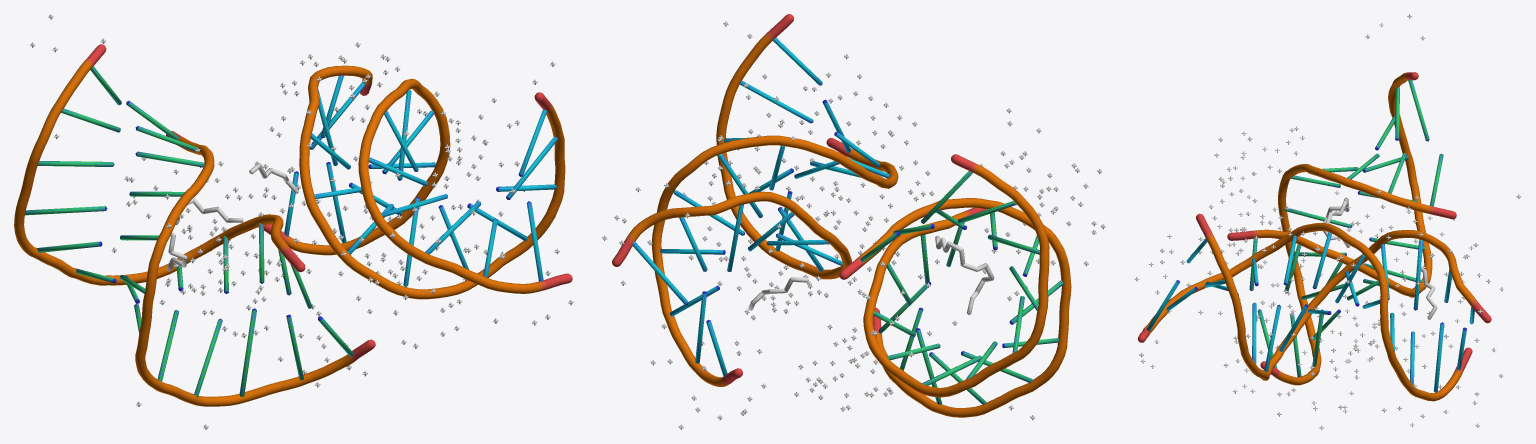
The model's file is Z-DNA.fbx.
3 views of the same model, side by side, from view 1: azimuth 30°, elevation 25°; view 2: azimuth 150°, elevation 25°; view 3: azimuth 270°, elevation 25° (orthographic). The views are drawn at different scales.
Parts seen in each view (by area): view 1: node-geom375, node-geom19; view 2: node-geom375, node-geom19; view 3: node-geom375, node-geom19.
Part boxes in pixels (bbox=[...]): node-geom375: bbox=[258, 65, 572, 299]; node-geom19: bbox=[14, 44, 375, 406]; node-geom375: bbox=[612, 14, 898, 386]; node-geom19: bbox=[839, 154, 1071, 417]; node-geom375: bbox=[1137, 213, 1491, 401]; node-geom19: bbox=[1227, 72, 1456, 385].
Size of the model in its own units: 5051 by 4161 by 4663.
